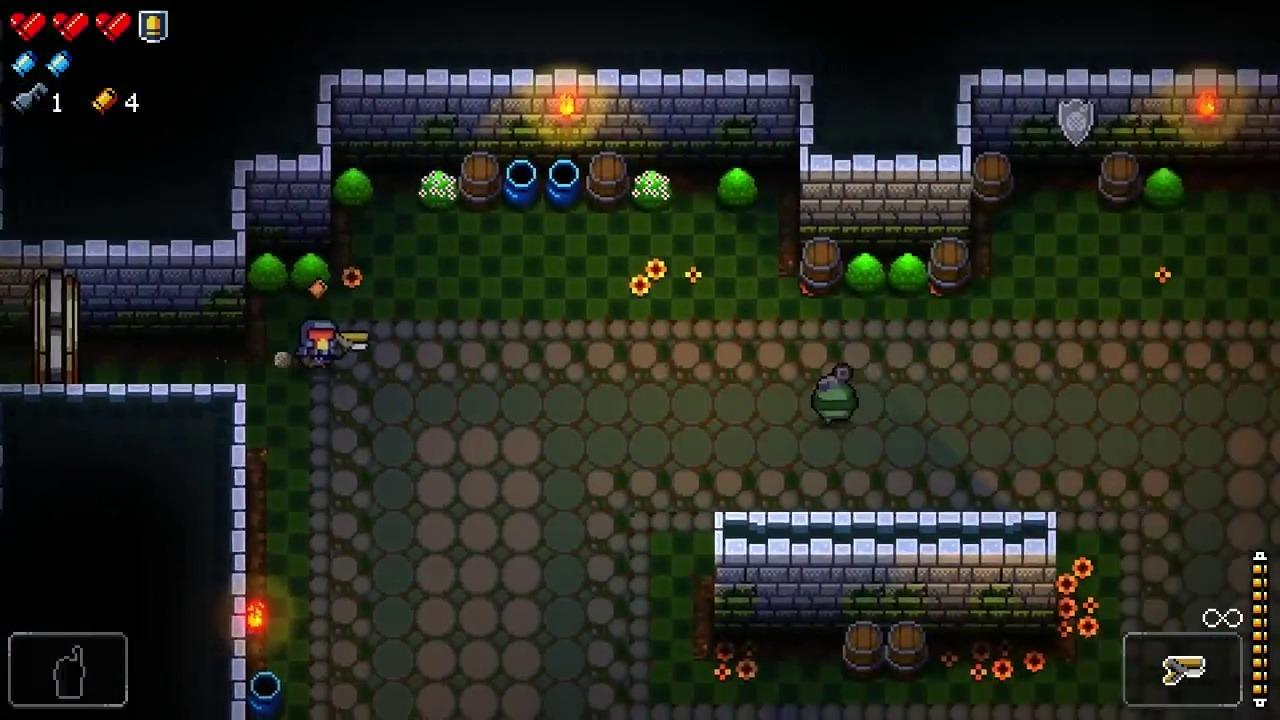locked_door: (34, 270, 80, 383)
pinhead: (809, 363, 861, 426)
player: (299, 317, 340, 372)
wall: (714, 512, 1057, 643)
